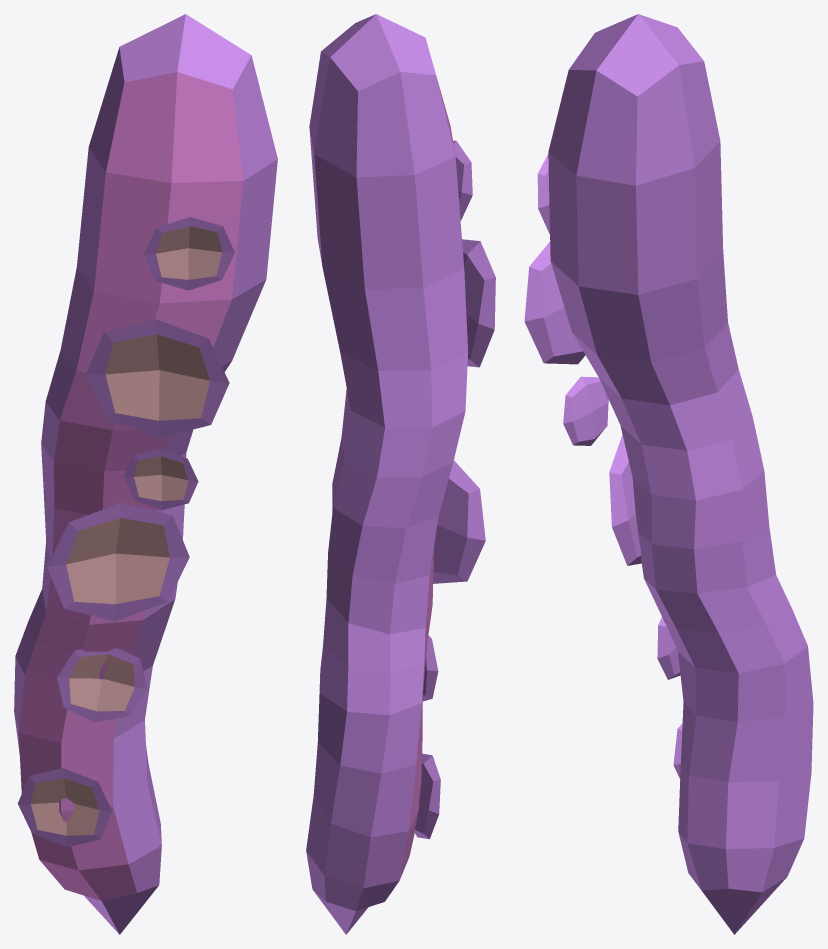
Rendered from tentacle.glb.
3 renders of one model, left to right at view 1: azimuth 30°, elevation 25°; view 2: azimuth 150°, elevation 25°; view 3: azimuth 270°, elevation 25°, orthographic. The views are drawn at different scales.
Visible parts, largest first — view 1: Cube.031; view 2: Cube.031; view 3: Cube.031.
Part boxes in pixels (x1,y1,x2,y2): Cube.031: (14,14,277,934); Cube.031: (306,14,495,934); Cube.031: (524,14,813,934).
Bounding box in the file's own units: 0.1732 × 0.7809 × 0.2202.
